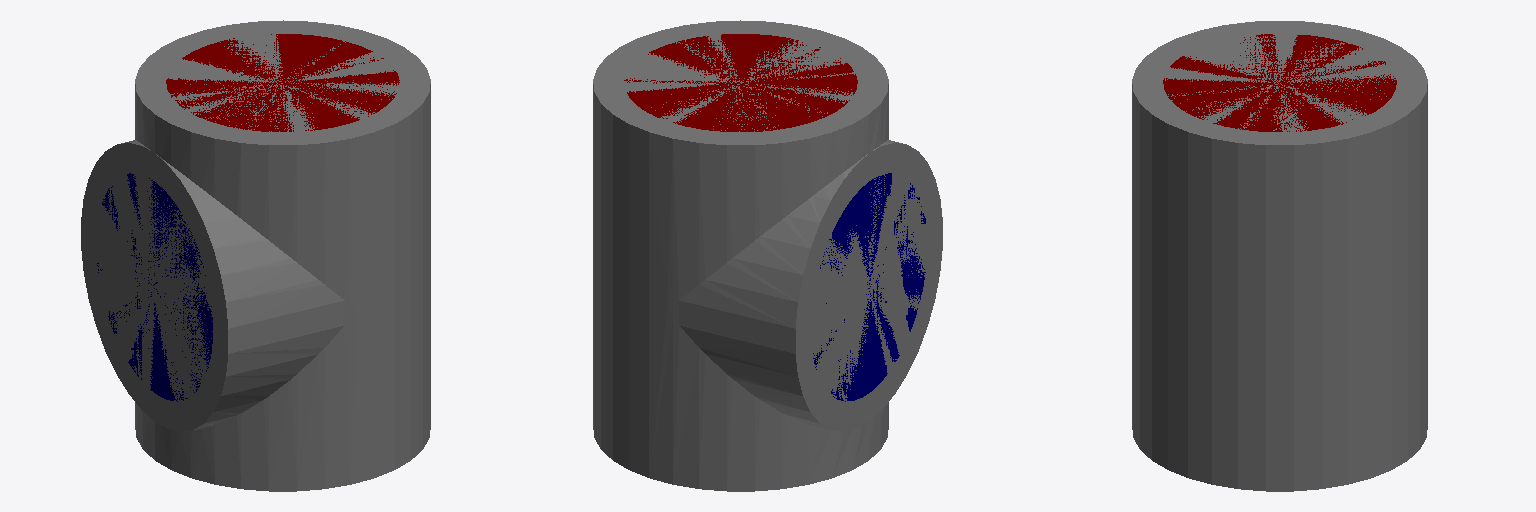
robot.urdf — jointT-l.SLDASM:
<?xml version="1.0" encoding="utf-8"?>
<!-- This URDF was automatically created by SolidWorks to URDF Exporter! Originally created by [author] ([email redacted]) 
     Commit Version: 1.6.0-4-g7f85cfe  Build Version: 1.6.7995.38578
     For more information, please see http://wiki.ros.org/sw_urdf_exporter -->
<robot
  name="jointT-l.SLDASM">
  <link
    name="tj_out">
    <inertial>
      <origin
        xyz="-0.0026095 1.0123E-08 -0.0735"
        rpy="0 0 0" />
      <mass
        value="1.5884" />
      <inertia
        ixx="0.004117"
        ixy="2.097E-09"
        ixz="-8.5243E-19"
        iyy="0.0041567"
        iyz="-4.7613E-10"
        izz="0.0027805" />
    </inertial>
    <visual>
      <origin
        xyz="0 0 0"
        rpy="0 0 0" />
      <geometry>
        <mesh
          filename="package://jointT-l.SLDASM/meshes/tj_out.STL" />
      </geometry>
      <material
        name="red">
        <color
          rgba="0.5 0 0 1" />
      </material>
    </visual>
    <collision>
      <origin
        xyz="0 0 0"
        rpy="0 0 0" />
      <geometry>
        <mesh
          filename="package://jointT-l.SLDASM/meshes/tj_out.STL" />
      </geometry>
    </collision>
  </link>
  <link
    name="tj_body">
    <inertial>
      <origin
        xyz="-0.0026078 -7.1138E-08 -0.0735"
        rpy="0 0 0" />
      <mass
        value="1.5884" />
      <inertia
        ixx="0.004117"
        ixy="2.097E-09"
        ixz="-8.5243E-19"
        iyy="0.0041567"
        iyz="-4.7613E-10"
        izz="0.0027805" />
    </inertial>
    <visual>
      <origin
        xyz="0 0 0"
        rpy="0 0 0" />
      <geometry>
        <mesh
          filename="package://jointT-l.SLDASM/meshes/tj_body.STL" />
      </geometry>
      <material
        name="body">
        <color
          rgba="0.5 0.5 0.5 1" />
      </material>
    </visual>
    <collision>
      <origin
        xyz="0 0 0"
        rpy="0 0 0" />
      <geometry>
        <mesh
          filename="package://jointT-l.SLDASM/meshes/tj_body.STL" />
      </geometry>
    </collision>
  </link>
  <joint
    name="tj_large_1"
    type="revolute">
    <origin
      xyz="0 0 0"
      rpy="0 0 0" />
    <parent
      link="tj_out" />
    <child
      link="tj_body" />
    <axis
      xyz="0 0 1" />
    <limit
      lower="-3.1416"
      upper="3.1416"
      effort="60.5"
      velocity="0.33" />
  </joint>
  <link
    name="tj_in">
    <inertial>
      <origin
        xyz="-1.904E-18 1.0123E-08 0.05439"
        rpy="0 0 0" />
      <mass
        value="1.5884" />
      <inertia
        ixx="0.0027805"
        ixy="4.7613E-10"
        ixz="8.5243E-19"
        iyy="0.0041567"
        iyz="2.097E-09"
        izz="0.004117" />
    </inertial>
    <visual>
      <origin
        xyz="0 0 0"
        rpy="0 0 0" />
      <geometry>
        <mesh
          filename="package://jointT-l.SLDASM/meshes/tj_in.STL" />
      </geometry>
      <material
        name="blue">
        <color
          rgba="0 0 0.5 1" />
      </material>
    </visual>
    <collision>
      <origin
        xyz="0 0 0"
        rpy="0 0 0" />
      <geometry>
        <mesh
          filename="package://jointT-l.SLDASM/meshes/tj_in.STL" />
      </geometry>
    </collision>
  </link>
  <joint
    name="tj_large_2"
    type="fixed">
    <origin
      xyz="-0.057 0 -0.0735"
      rpy="0 1.5707963267949 0" />
    <parent
      link="tj_body" />
    <child
      link="tj_in" />
    <axis
      xyz="0 0 0" />
  </joint>
</robot>

--- Facts derived from the render (not from the file) ---
3 views of the same robot in one strip: view 1: azimuth 30°, elevation 25°; view 2: azimuth 150°, elevation 25°; view 3: azimuth 270°, elevation 25° (orthographic).
Model jointT-l.SLDASM with 3 links and 2 joints (1 revolute, 1 fixed), rooted at tj_out, posed every joint at zero.
Links seen in each view (by area): view 1: tj_body, tj_out, tj_in; view 2: tj_body, tj_out, tj_in; view 3: tj_body, tj_out.
Link boxes in pixels (x1=…): tj_body: x1=81, y1=20, x2=430, y2=491; tj_out: x1=166, y1=34, x2=399, y2=131; tj_in: x1=97, y1=173, x2=212, y2=401; tj_body: x1=593, y1=20, x2=942, y2=491; tj_out: x1=624, y1=34, x2=857, y2=131; tj_in: x1=813, y1=173, x2=925, y2=401; tj_body: x1=1132, y1=21, x2=1427, y2=491; tj_out: x1=1163, y1=34, x2=1396, y2=131.
Bounding box of the posed robot: 0.1137 × 0.114 × 0.147 m (x, y, z).
3 mesh visuals loaded from 3 distinct referenced files (3 binary STL).